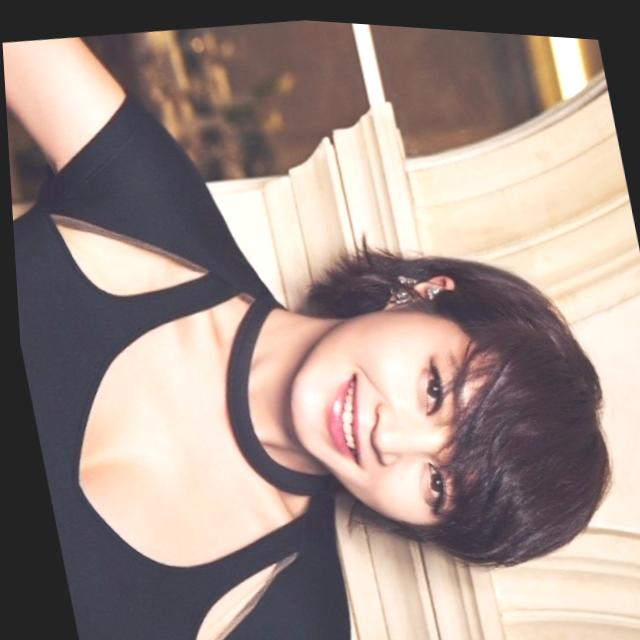face: (258, 287, 533, 537)
